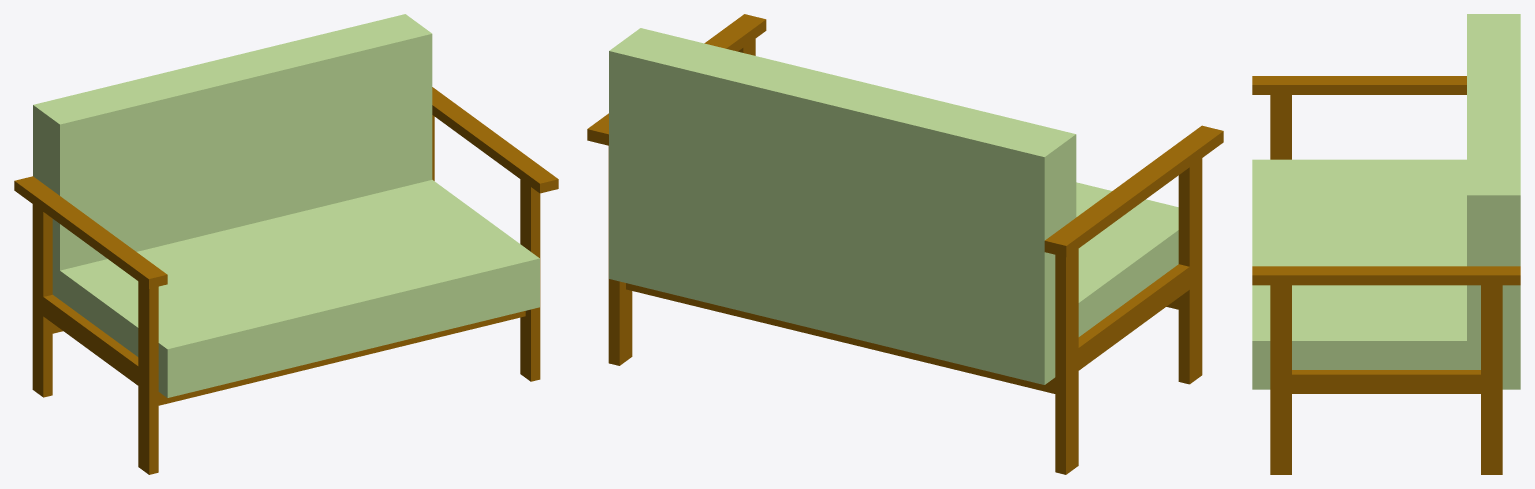
3 views of the same model, side by side, from view 1: azimuth 30°, elevation 25°; view 2: azimuth 150°, elevation 25°; view 3: azimuth 270°, elevation 25° (orthographic). The views are drawn at different scales.
Parts seen in each view (by area): view 1: bench; view 2: bench; view 3: bench.
Boxes of the visible parts, <box> form: bench: <box>14,14,558,474</box>; bench: <box>587,14,1223,474</box>; bench: <box>1252,14,1520,474</box>.
Size of the model in its own units: 1.8 by 1.16 by 1.02.
